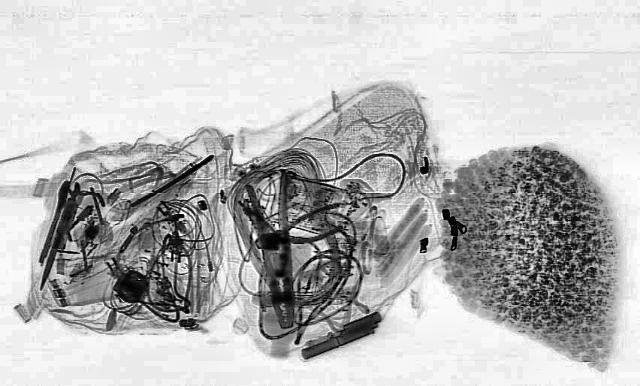Pliers: (244, 170, 308, 328), (242, 200, 362, 258)
Wrench: (51, 181, 80, 247)
